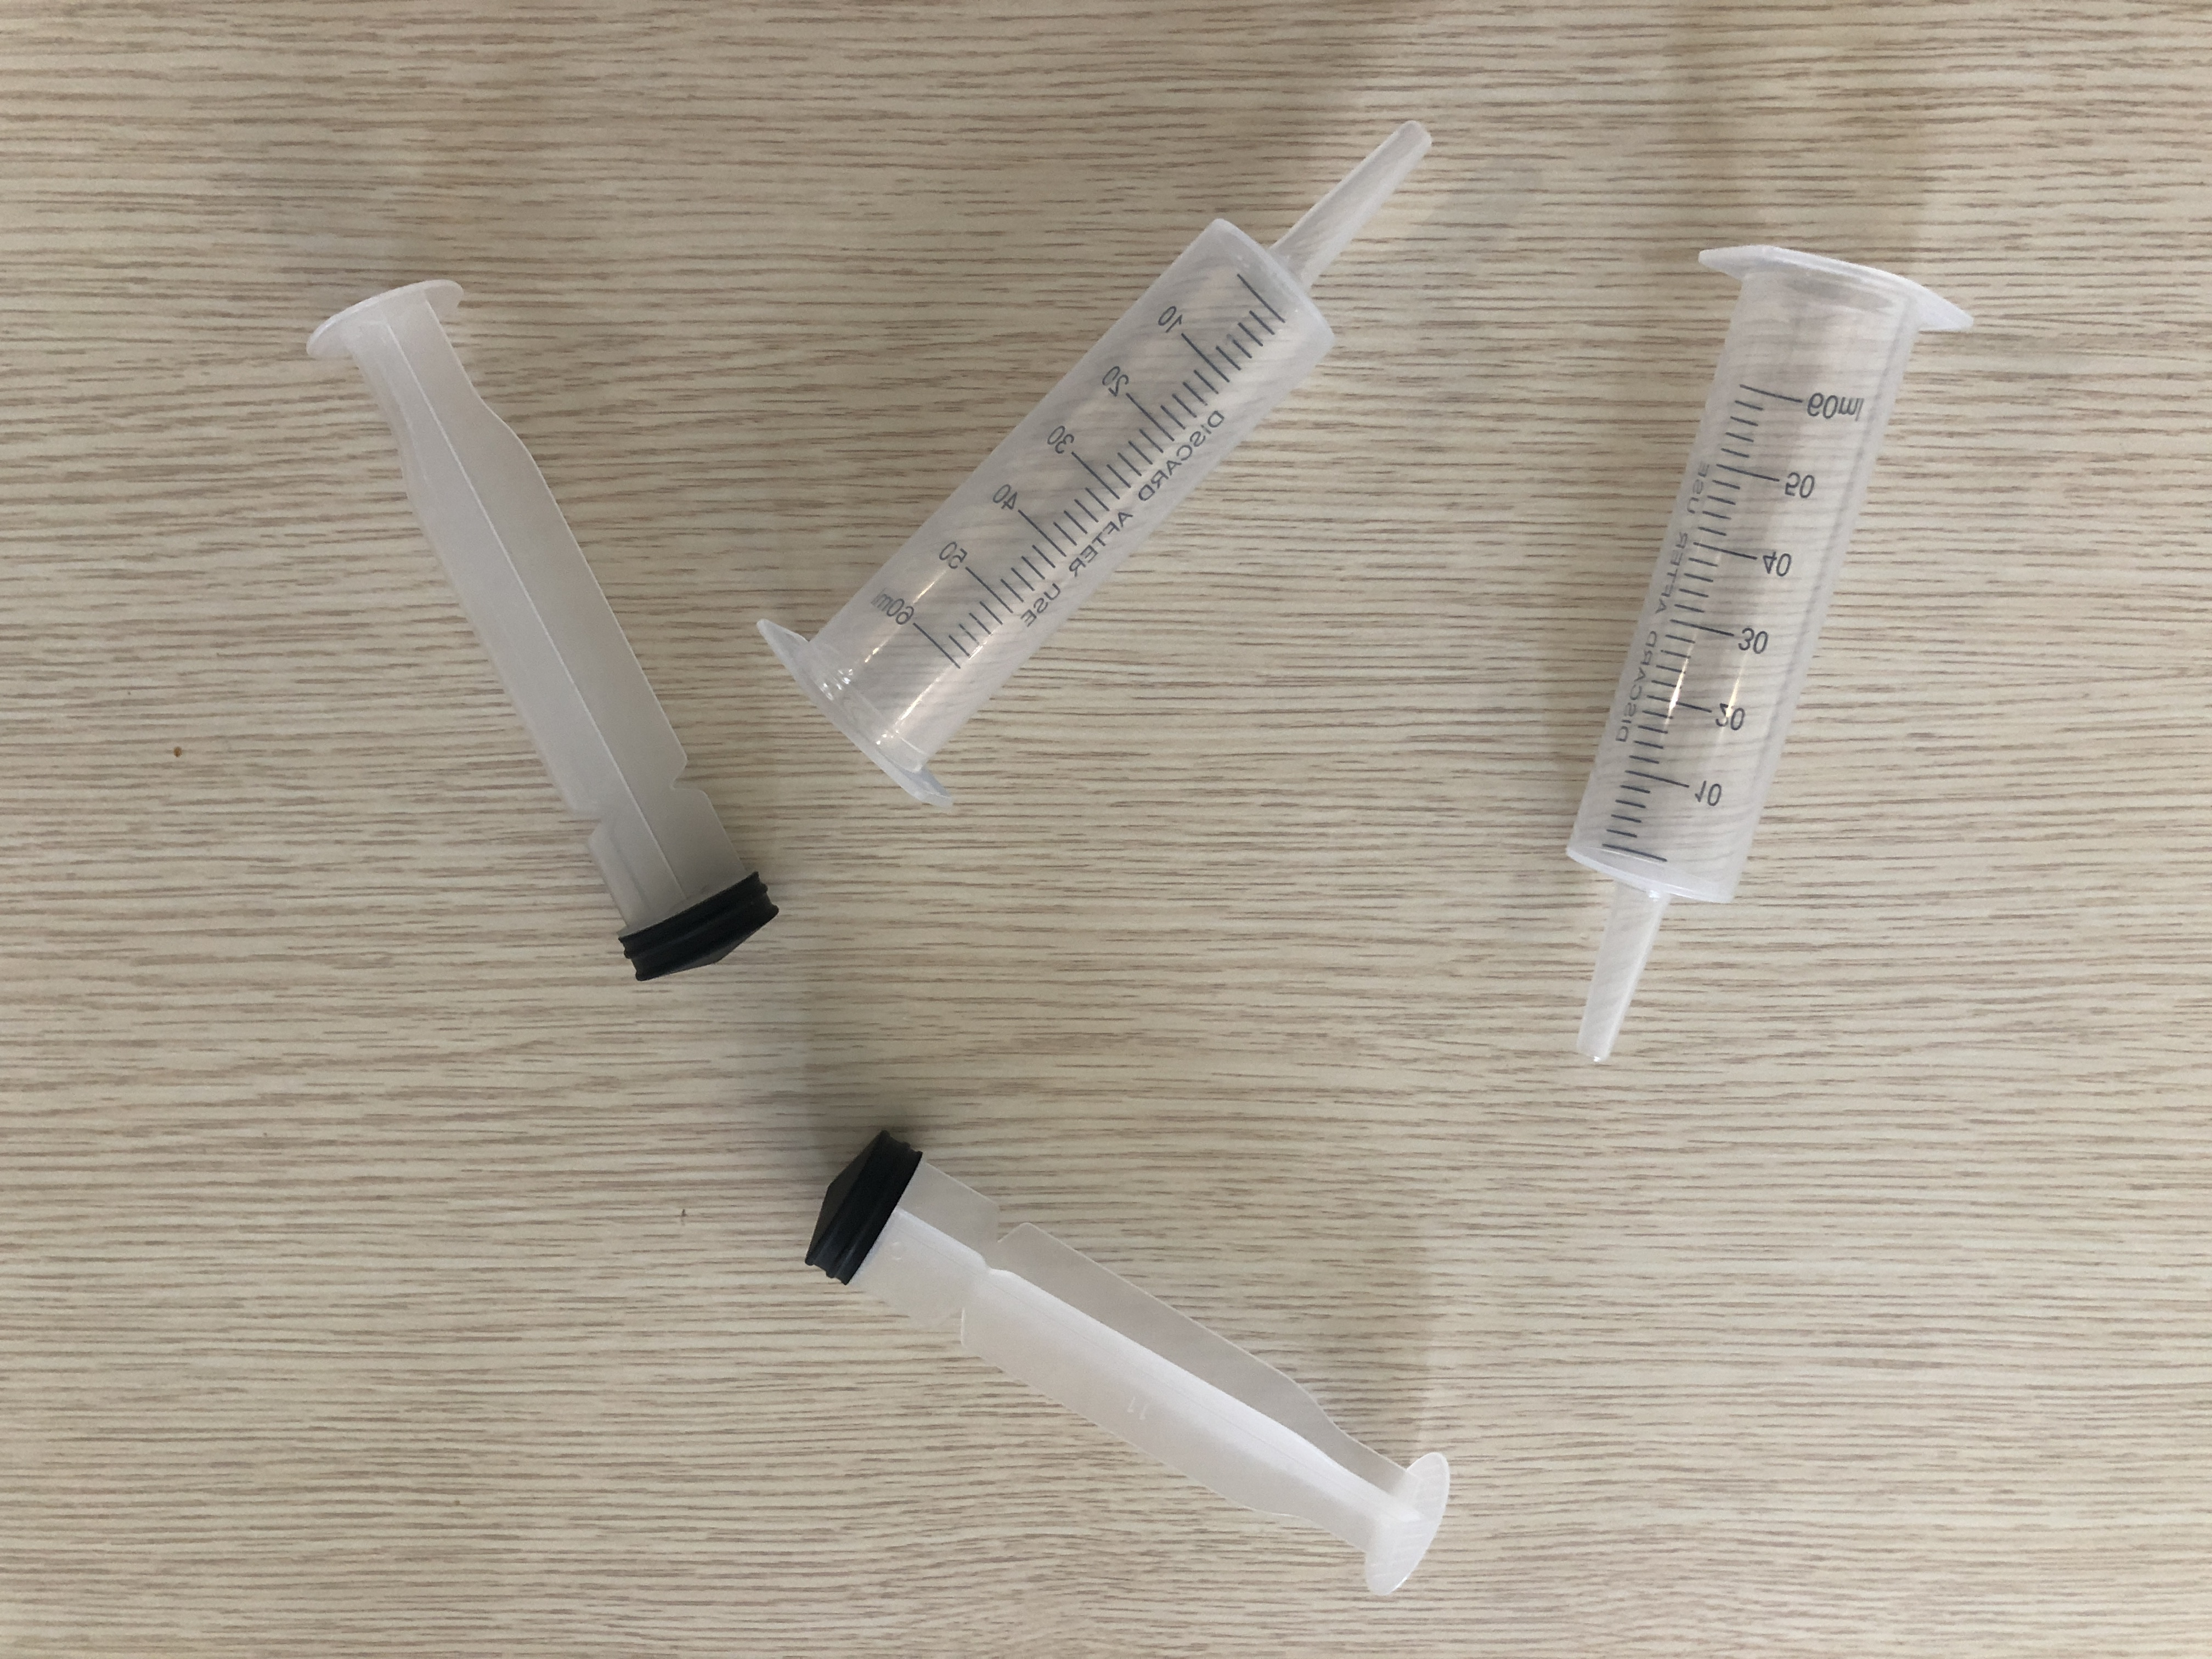plunger: (296, 272, 779, 983), (801, 1124, 1460, 1605)
syringe: (754, 117, 1435, 814), (1554, 232, 1980, 1066)
